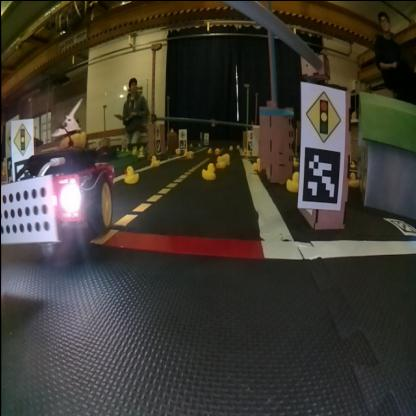Duckie: (124, 165, 138, 183), (286, 170, 298, 190), (202, 162, 216, 178), (216, 154, 228, 166), (349, 172, 358, 186), (188, 149, 193, 157)
Duckiebot: (2, 150, 113, 242)
QR code: (303, 146, 341, 204), (155, 138, 161, 152)
Signal sign: (304, 86, 342, 144), (14, 120, 32, 150)
